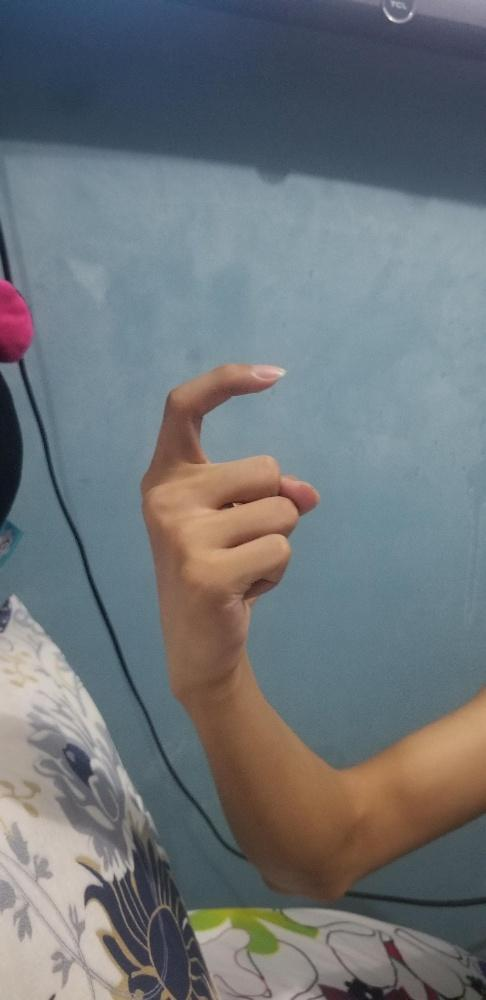x: (137, 355, 321, 699)
